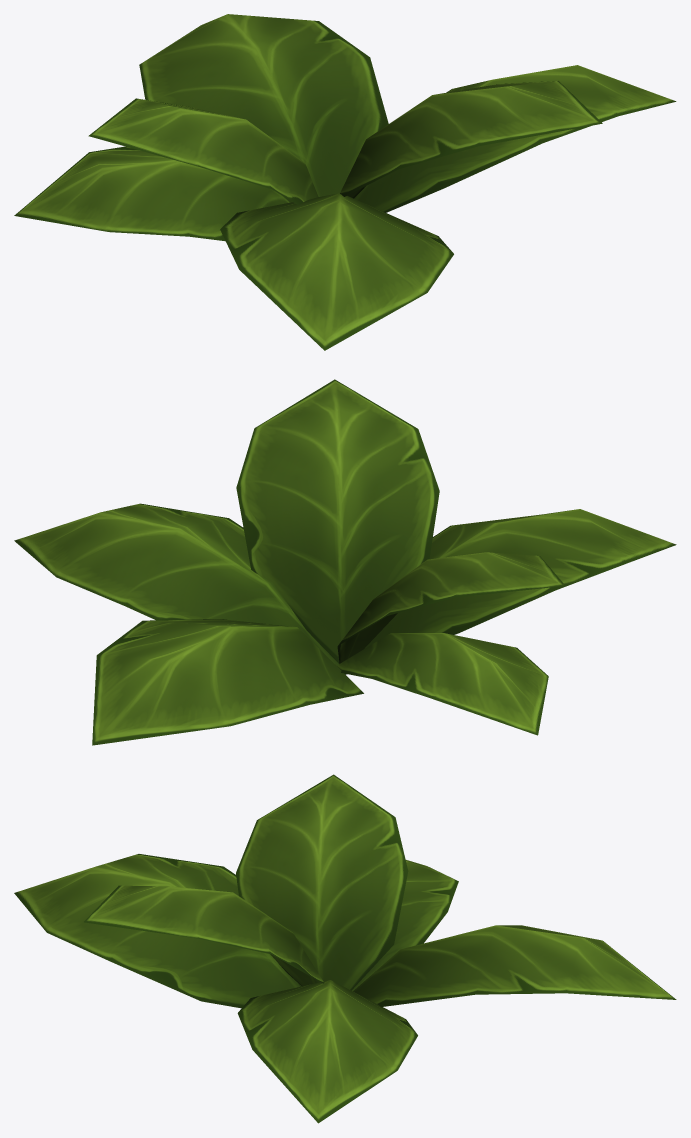
The model's file is Plant.FBX.
3 views of the same model, one above another, from view 1: azimuth 30°, elevation 25°; view 2: azimuth 150°, elevation 25°; view 3: azimuth 270°, elevation 25° (orthographic). The views are drawn at different scales.
Parts seen in each view (by area): view 1: Plant; view 2: Plant; view 3: Plant.
Boxes of the visible parts, left/top/right/bottom form: Plant: left=14, top=14, right=676, bottom=350; Plant: left=14, top=379, right=676, bottom=745; Plant: left=14, top=774, right=676, bottom=1123.
Bounding box in the file's own units: 1.78 × 0.5457 × 1.87.
